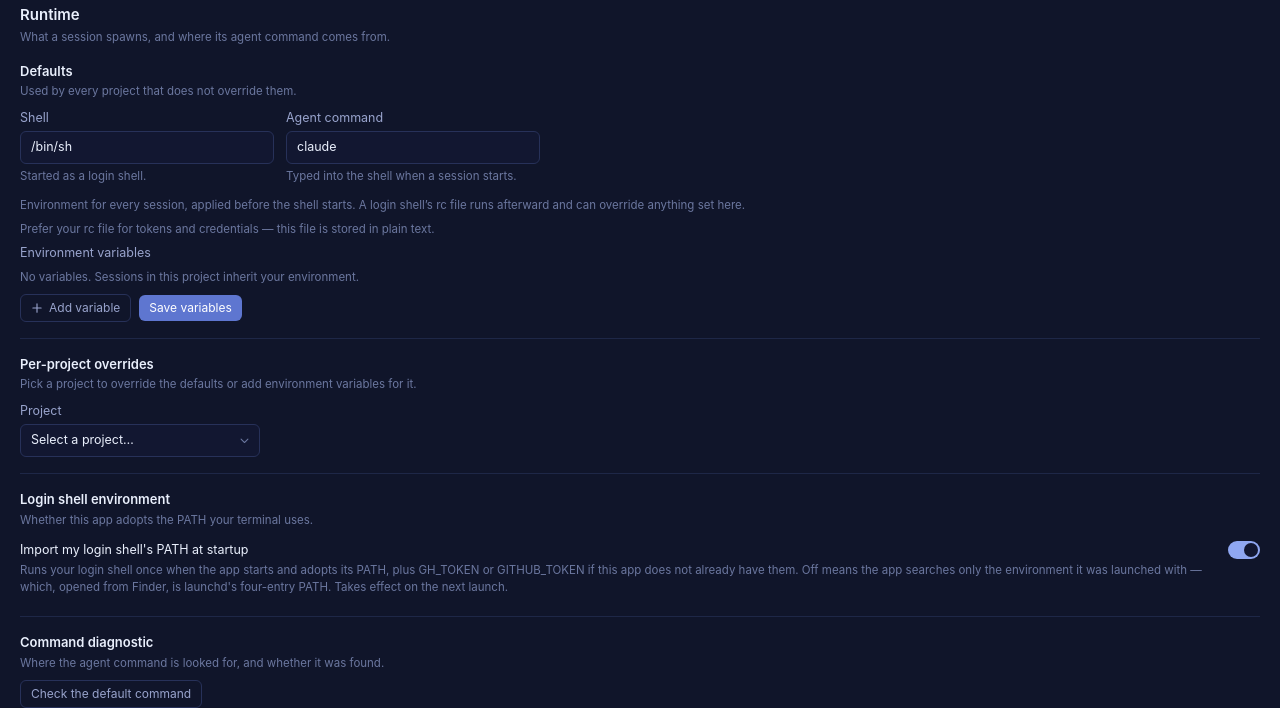
Test: RuntimeSection — diagnostic › asks about the top-level command when no project is picked
Click the button "Check the default command". click: (111, 694)
box: [20, 680, 202, 707]
(page scrolled)
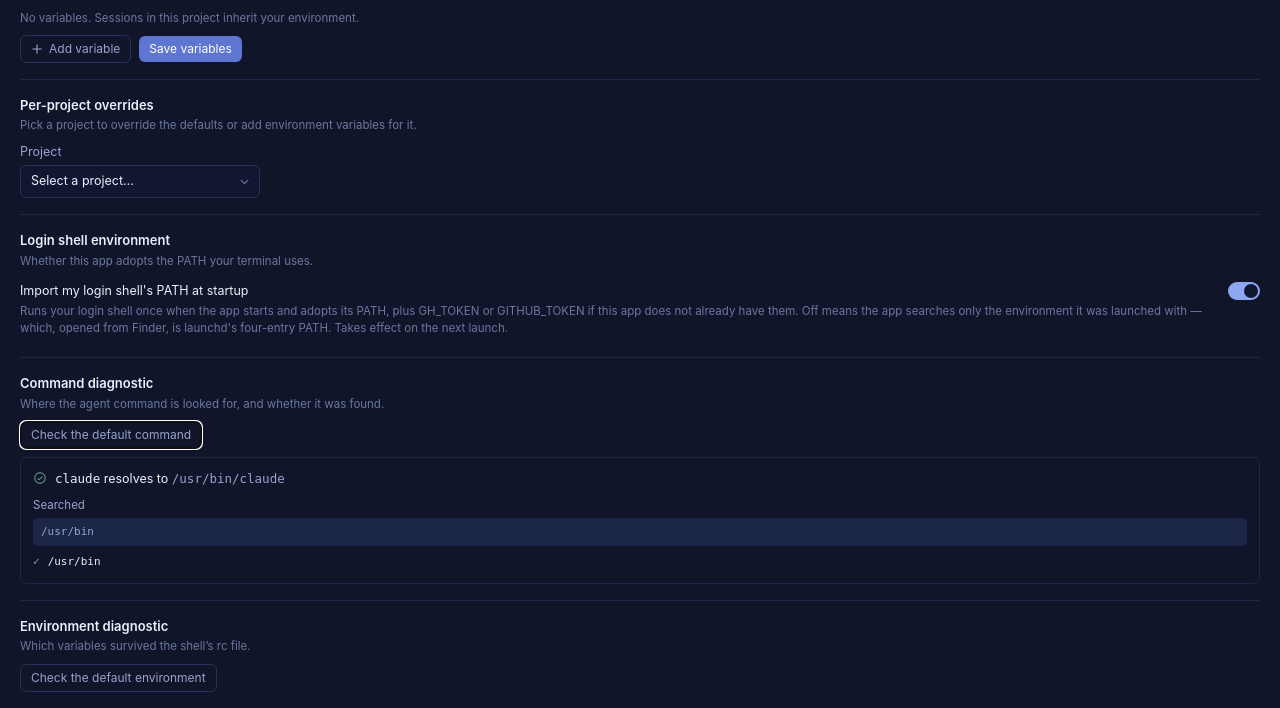
Expected: the text "/usr/bin/claude" is shown, [172, 471, 285, 486]
